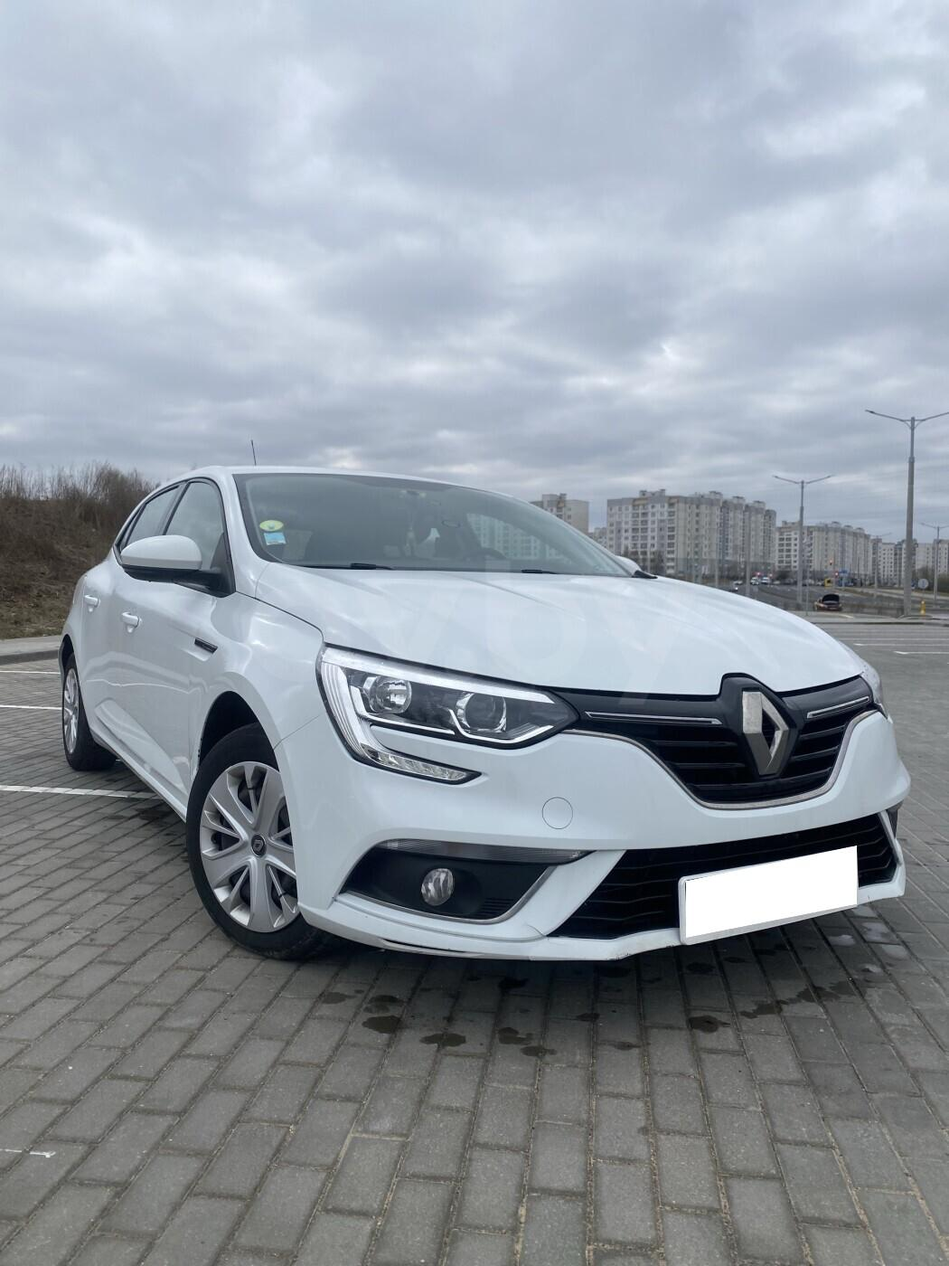Megane_2016-2020: (58, 452, 918, 995)
